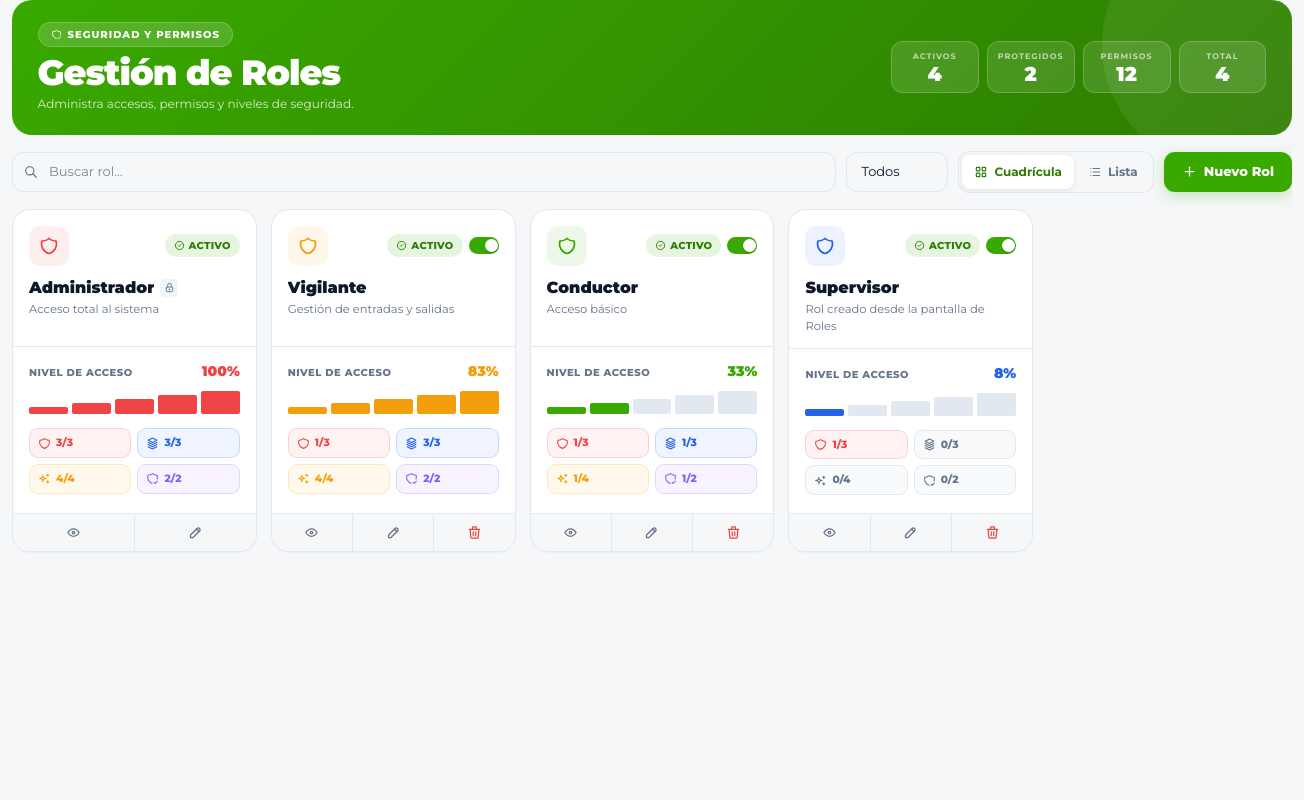
Test: Roles › muestra "No se encontraron roles" cuando el filtro no coincide con nada
Expected: the heading "Administrador" is shown, left=29, top=278, right=154, bottom=297
In the field named "Buscar roles": (424, 172) left=12, top=152, right=836, bottom=192, type "rol-inexistente-xyz"
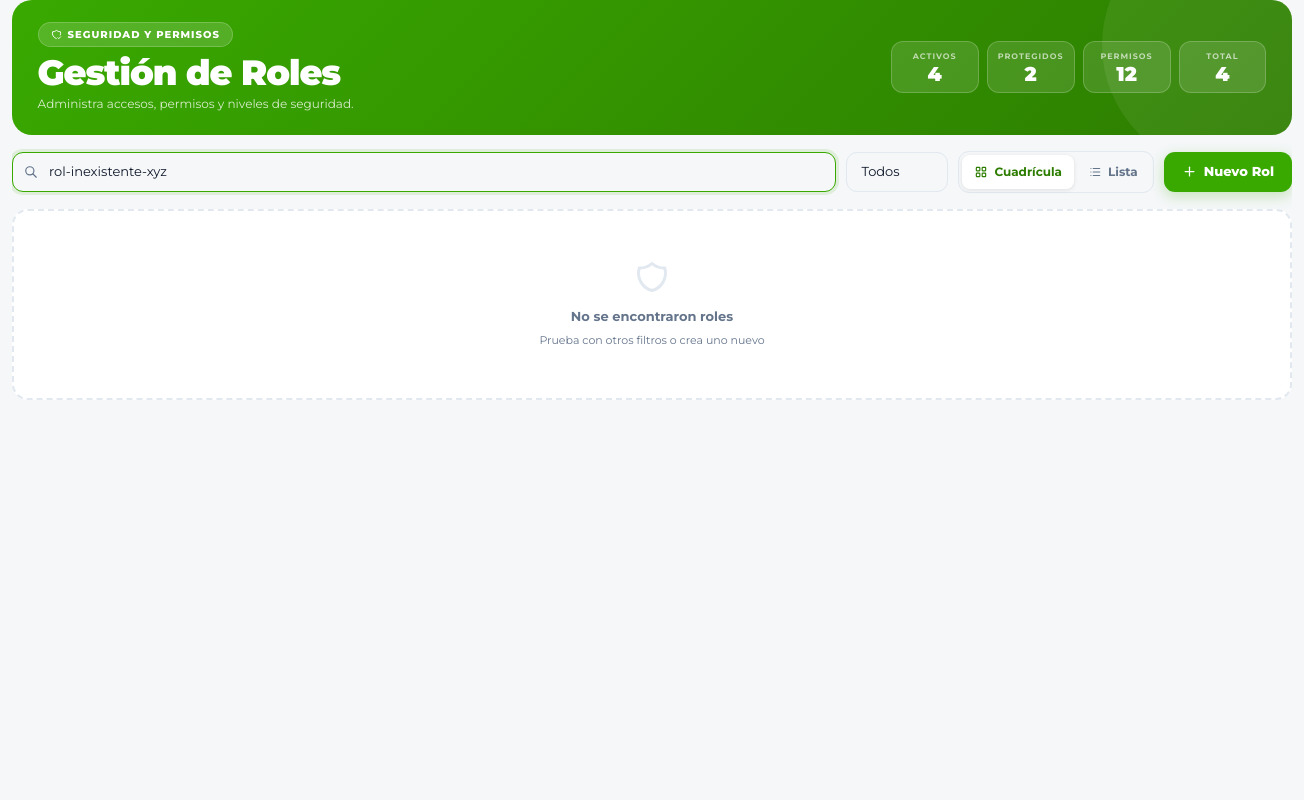
Result: the text "No se encontraron roles" is shown at left=571, top=305, right=733, bottom=327
